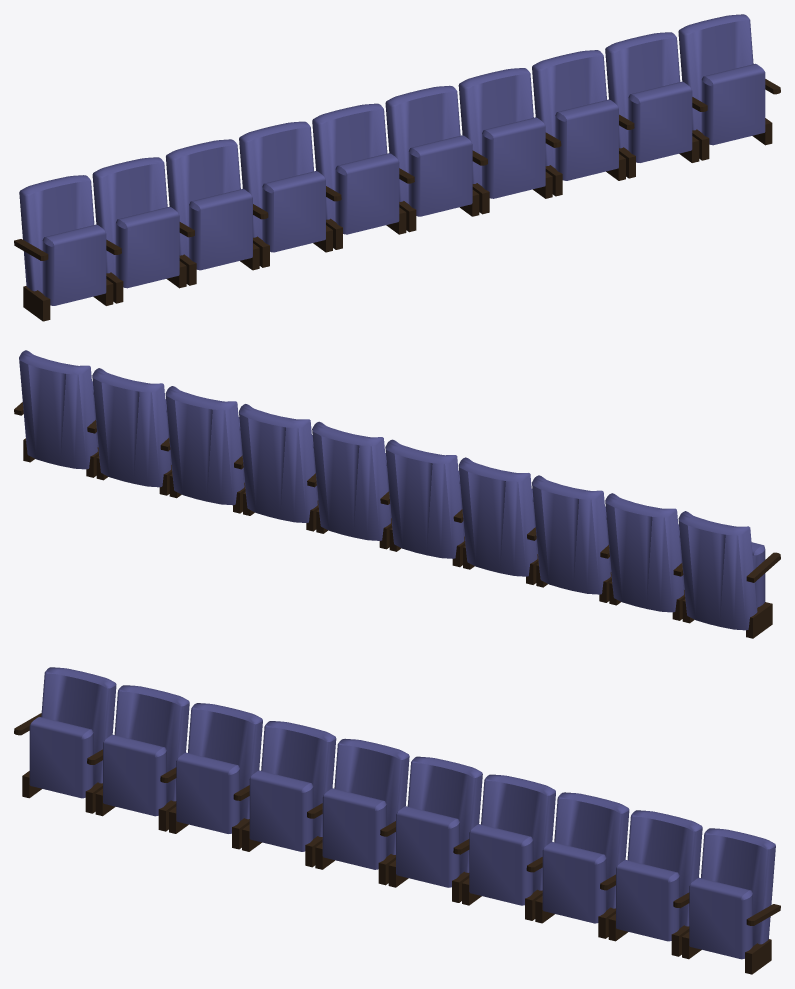
Rendered from 492-Cinema.obj.
3 views of the same model, one above another, from view 1: azimuth 30°, elevation 25°; view 2: azimuth 150°, elevation 25°; view 3: azimuth 330°, elevation 25° (orthographic).
Parts seen in each view (by area): view 1: Mesh49 Group31 Kinostuhl01_10 Model, Mesh27 Group17 Kinostuhl01_6 Model, Mesh2 Group2 Kinostuhl01_1 Model, Mesh47 Group29 Kinostuhl01_10 Model, Mesh7 Group5 Kinostuhl01_2 Model, Mesh22 Group14 Kinostuhl01_5 Model, Mesh42 Group26 Kinostuhl01_9 Model, Mesh14 Group10 Kinostuhl01_3 Model, Mesh12 Group8 Kinostuhl01_3 Model, Mesh17 Group11 Kinostuhl01_4 Model, Mesh37 Group23 Kinostuhl01_8 Model, Mesh9 Group7 Kinostuhl01_2 Model (+9 smaller); view 2: Mesh49 Group31 Kinostuhl01_10 Model, Mesh44 Group28 Kinostuhl01_9 Model, Mesh9 Group7 Kinostuhl01_2 Model, Mesh19 Group13 Kinostuhl01_4 Model, Mesh24 Group16 Kinostuhl01_5 Model, Mesh29 Group19 Kinostuhl01_6 Model, Mesh14 Group10 Kinostuhl01_3 Model, Mesh39 Group25 Kinostuhl01_8 Model, Mesh4 Group4 Kinostuhl01_1 Model, Mesh34 Group22 Kinostuhl01_7 Model, Mesh51 Kinostuhl01_10 Model, Mesh47 Group29 Kinostuhl01_10 Model; view 3: Mesh4 Group4 Kinostuhl01_1 Model, Mesh27 Group17 Kinostuhl01_6 Model, Mesh12 Group8 Kinostuhl01_3 Model, Mesh47 Group29 Kinostuhl01_10 Model, Mesh32 Group20 Kinostuhl01_7 Model, Mesh17 Group11 Kinostuhl01_4 Model, Mesh9 Group7 Kinostuhl01_2 Model, Mesh49 Group31 Kinostuhl01_10 Model, Mesh14 Group10 Kinostuhl01_3 Model, Mesh22 Group14 Kinostuhl01_5 Model, Mesh29 Group19 Kinostuhl01_6 Model, Mesh24 Group16 Kinostuhl01_5 Model (+9 smaller).
Part boxes in pixels (x1=…): Mesh49 Group31 Kinostuhl01_10 Model: x1=19, y1=175, x2=94, y2=293; Mesh27 Group17 Kinostuhl01_6 Model: x1=335, y1=153, x2=399, y2=234; Mesh2 Group2 Kinostuhl01_1 Model: x1=701, y1=63, x2=765, y2=145; Mesh47 Group29 Kinostuhl01_10 Model: x1=42, y1=224, x2=106, y2=305; Mesh7 Group5 Kinostuhl01_2 Model: x1=628, y1=81, x2=692, y2=162; Mesh22 Group14 Kinostuhl01_5 Model: x1=408, y1=135, x2=472, y2=216; Mesh42 Group26 Kinostuhl01_9 Model: x1=115, y1=206, x2=179, y2=288; Mesh14 Group10 Kinostuhl01_3 Model: x1=532, y1=50, x2=606, y2=167; Mesh12 Group8 Kinostuhl01_3 Model: x1=555, y1=99, x2=618, y2=180; Mesh17 Group11 Kinostuhl01_4 Model: x1=482, y1=117, x2=545, y2=198; Mesh37 Group23 Kinostuhl01_8 Model: x1=189, y1=189, x2=252, y2=270; Mesh9 Group7 Kinostuhl01_2 Model: x1=605, y1=32, x2=680, y2=149; Mesh49 Group31 Kinostuhl01_10 Model: x1=678, y1=511, x2=757, y2=630; Mesh44 Group28 Kinostuhl01_9 Model: x1=605, y1=493, x2=684, y2=612; Mesh9 Group7 Kinostuhl01_2 Model: x1=92, y1=368, x2=171, y2=487; Mesh19 Group13 Kinostuhl01_4 Model: x1=239, y1=404, x2=317, y2=522; Mesh24 Group16 Kinostuhl01_5 Model: x1=312, y1=421, x2=390, y2=540; Mesh29 Group19 Kinostuhl01_6 Model: x1=385, y1=439, x2=464, y2=558; Mesh14 Group10 Kinostuhl01_3 Model: x1=165, y1=386, x2=244, y2=505; Mesh39 Group25 Kinostuhl01_8 Model: x1=532, y1=475, x2=610, y2=594; Mesh4 Group4 Kinostuhl01_1 Model: x1=19, y1=350, x2=97, y2=469; Mesh34 Group22 Kinostuhl01_7 Model: x1=458, y1=457, x2=537, y2=576; Mesh51 Kinostuhl01_10 Model: x1=746, y1=602, x2=772, y2=638; Mesh47 Group29 Kinostuhl01_10 Model: x1=751, y1=542, x2=765, y2=607; Mesh4 Group4 Kinostuhl01_1 Model: x1=701, y1=828, x2=775, y2=945; Mesh27 Group17 Kinostuhl01_6 Model: x1=322, y1=788, x2=386, y2=869; Mesh12 Group8 Kinostuhl01_3 Model: x1=542, y1=842, x2=606, y2=923; Mesh47 Group29 Kinostuhl01_10 Model: x1=29, y1=717, x2=93, y2=798; Mesh32 Group20 Kinostuhl01_7 Model: x1=249, y1=770, x2=313, y2=851; Mesh17 Group11 Kinostuhl01_4 Model: x1=469, y1=824, x2=533, y2=905; Mesh9 Group7 Kinostuhl01_2 Model: x1=627, y1=810, x2=702, y2=927; Mesh49 Group31 Kinostuhl01_10 Model: x1=41, y1=667, x2=116, y2=784; Mesh14 Group10 Kinostuhl01_3 Model: x1=554, y1=792, x2=629, y2=910; Mesh22 Group14 Kinostuhl01_5 Model: x1=396, y1=806, x2=459, y2=887; Mesh29 Group19 Kinostuhl01_6 Model: x1=334, y1=738, x2=409, y2=856; Mesh24 Group16 Kinostuhl01_5 Model: x1=407, y1=756, x2=482, y2=874.
Size of the model in its own units: 5276 by 766 by 438.
